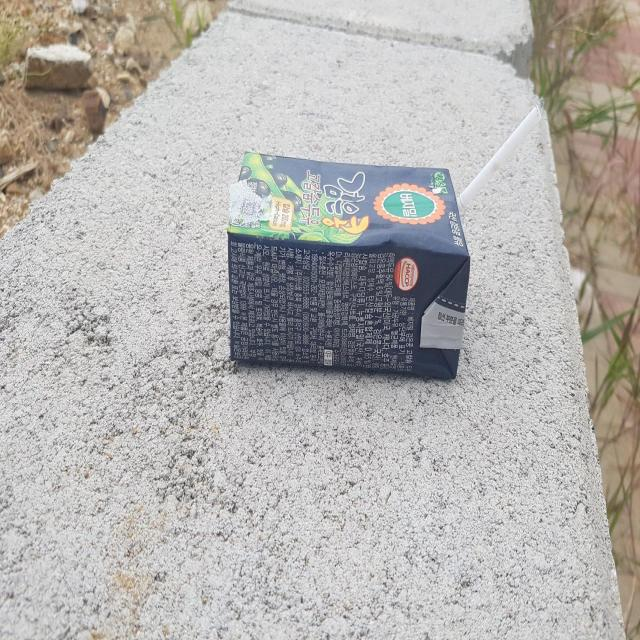paperpack: (228, 151, 471, 378)
